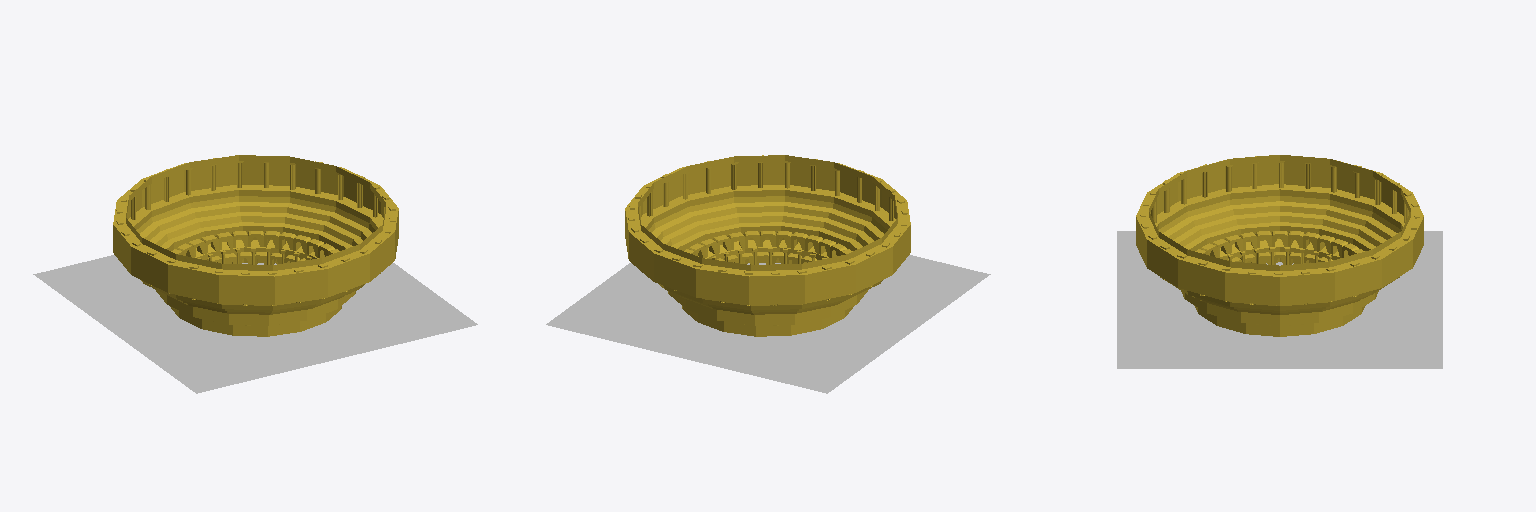
The model's file is coliseum.obj.
The picture shows the model from 3 angles: view 1: azimuth 30°, elevation 25°; view 2: azimuth 150°, elevation 25°; view 3: azimuth 270°, elevation 25°; orthographic projection.
Visible parts, largest first — view 1: Cylinder, Plane, Circle.003, Circle.002, Circle; view 2: Cylinder, Plane, Circle.003, Circle.002, Circle; view 3: Cylinder, Plane, Circle.003, Circle.002, Circle.
Part boxes in pixels (x1,y1,x2,y2): Cylinder: (113, 155, 398, 336); Plane: (33, 255, 477, 393); Circle.003: (116, 158, 395, 305); Circle.002: (171, 231, 339, 325); Circle: (207, 252, 305, 264); Cylinder: (625, 155, 910, 336); Plane: (546, 255, 990, 393); Circle.003: (628, 155, 907, 305); Circle.002: (684, 231, 852, 325); Circle: (717, 252, 816, 264); Cylinder: (1136, 155, 1423, 336); Plane: (1117, 231, 1442, 368); Circle.003: (1140, 156, 1419, 305); Circle.002: (1195, 231, 1364, 325); Circle: (1227, 252, 1332, 264).
Size of the model in its own units: 40 by 12.44 by 40.